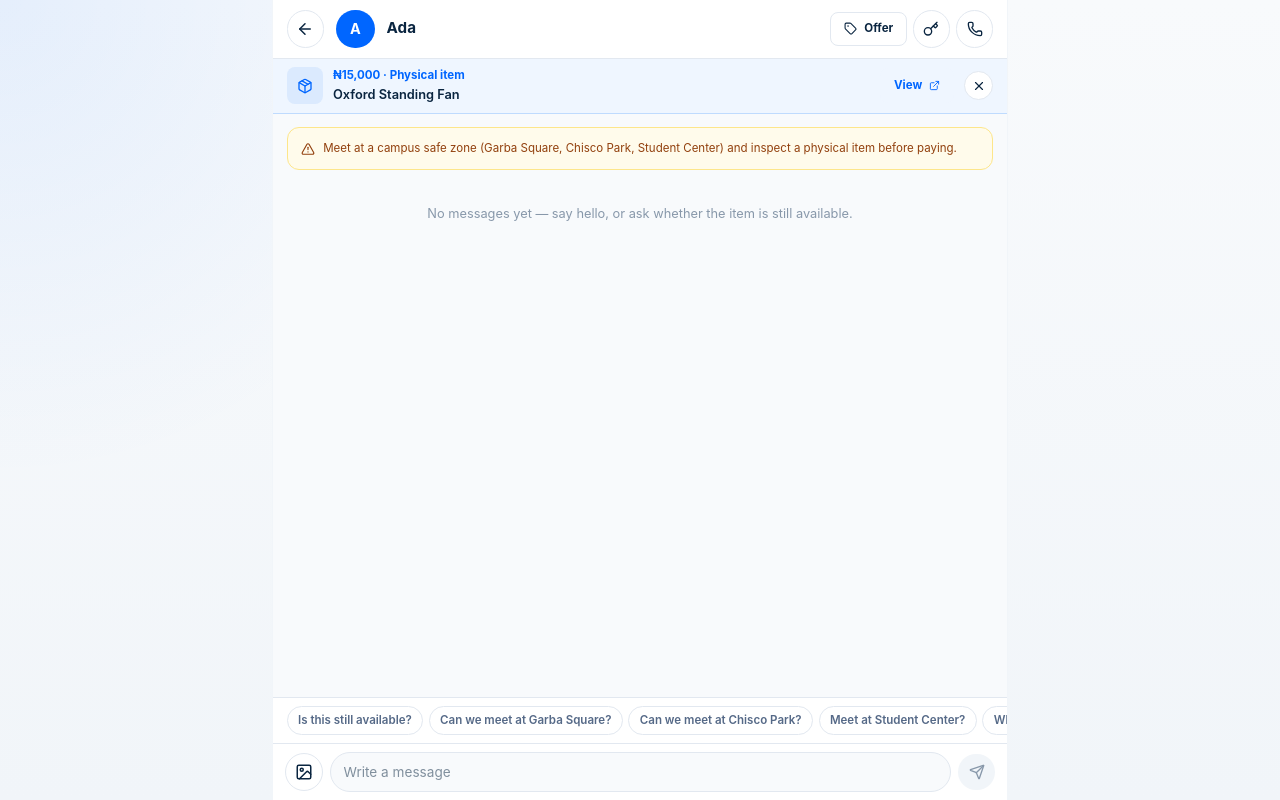
Campus handshake › arranges the meetup and shows the buyer a PIN
Click the button named "arrange a meetup" at [931, 29], box [913, 10, 950, 48]
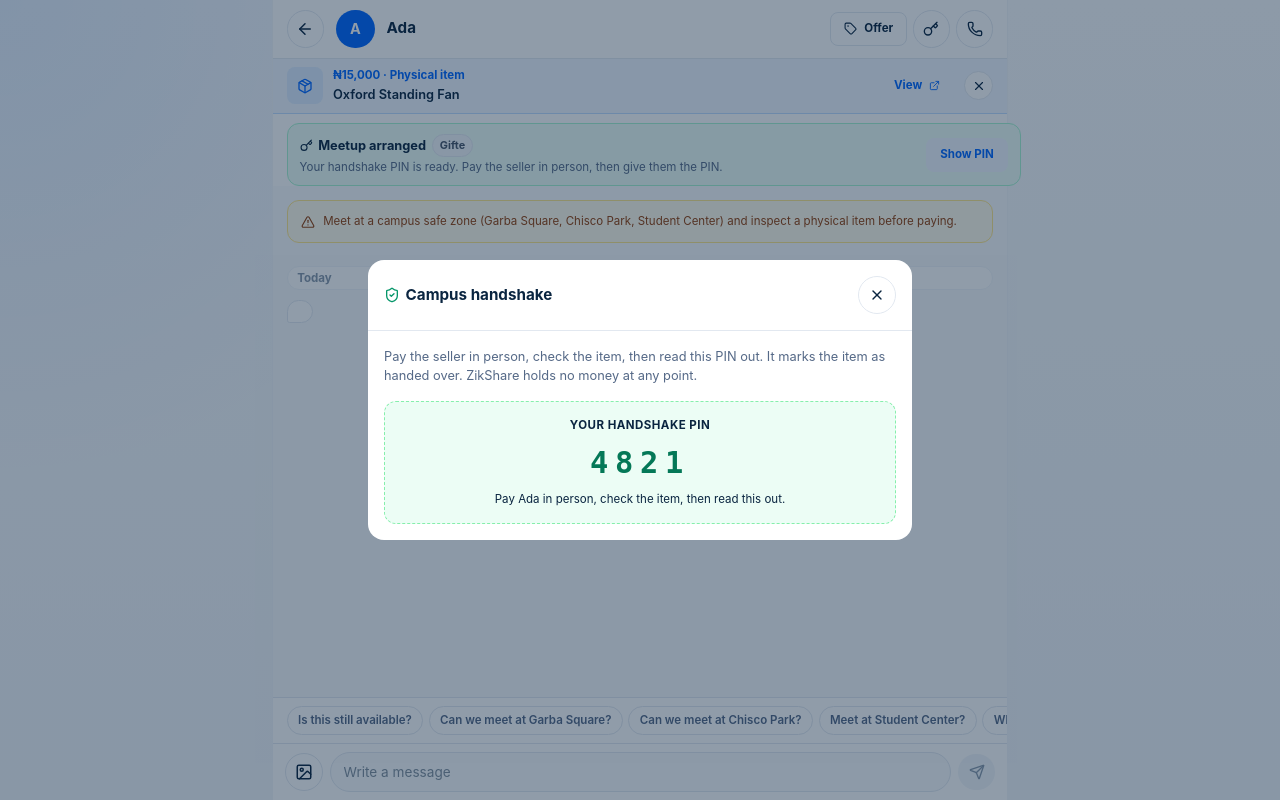
expect the text "4821" is shown: met, box [590, 445, 690, 480]
